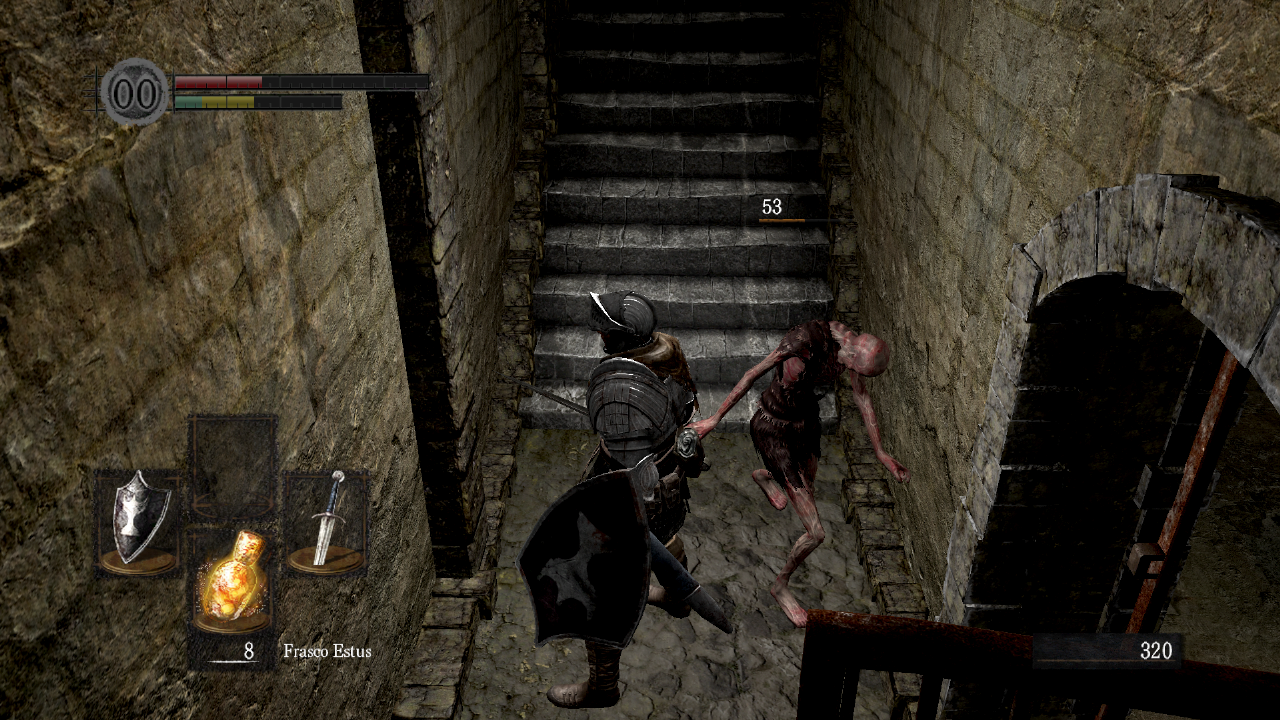hollow: (682, 318, 912, 626)
player: (516, 289, 733, 711)
